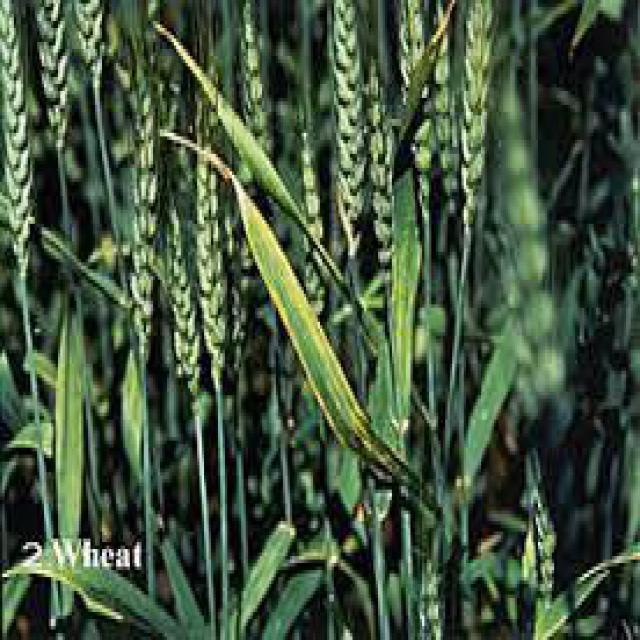Yellow_Rust: (158, 128, 423, 491)
